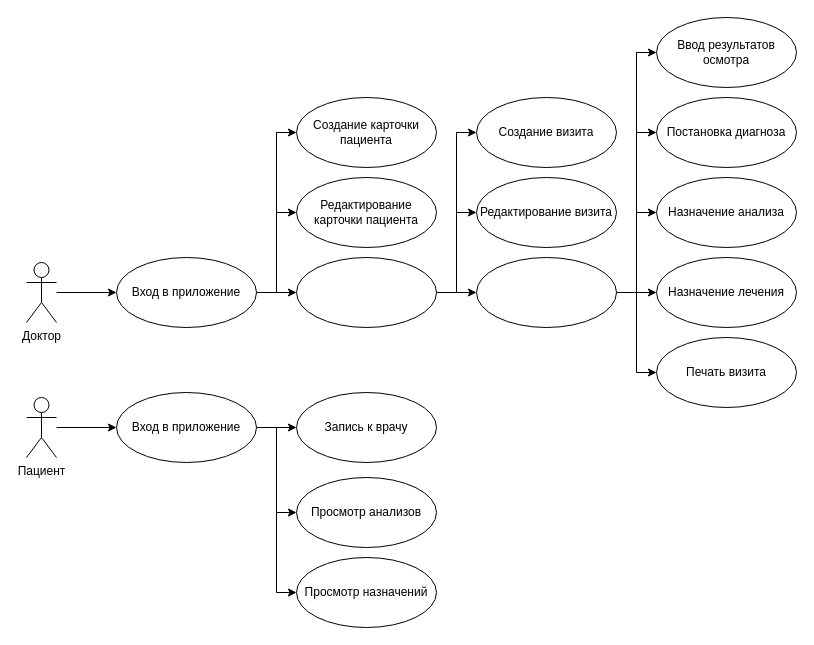
Some shapes in this 814 by 645 pixel diagram are drawn without their labels. The centre of each missing label's shape, as x and y in pixels:
"Просмотр визита" belongs at [546,292].
"Просмотр карточки пациента" belongs at [366,292].
